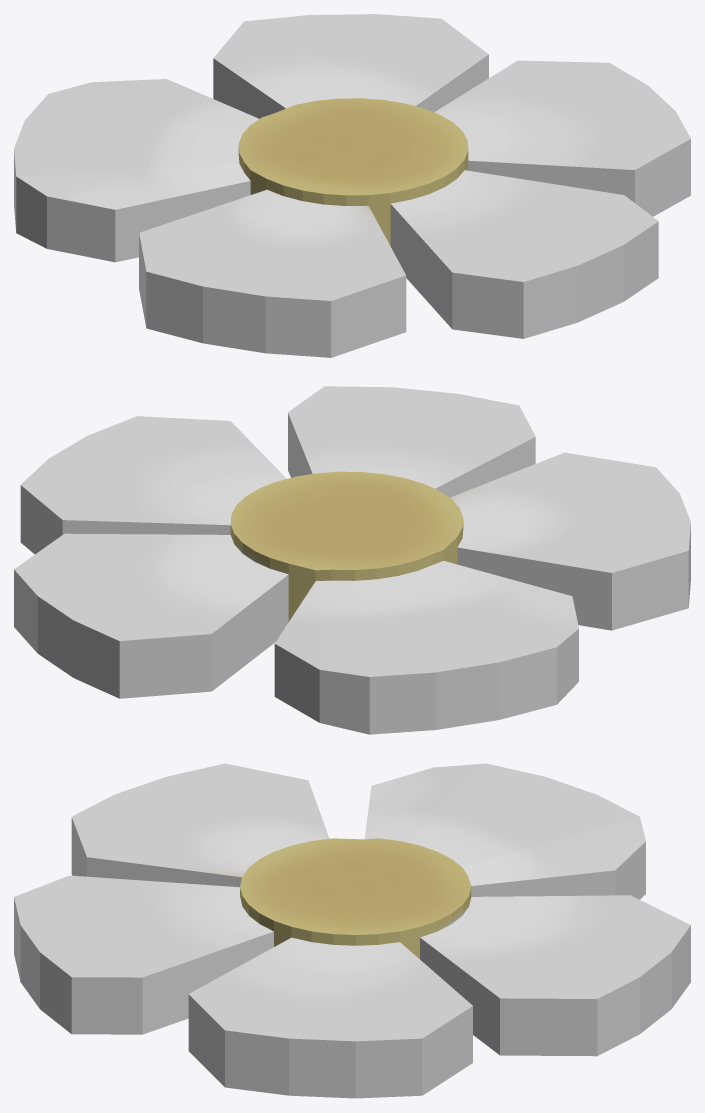
File: flower.fbx
3 views of the same model, one above another, from view 1: azimuth 30°, elevation 25°; view 2: azimuth 150°, elevation 25°; view 3: azimuth 270°, elevation 25° (orthographic).
Parts seen in each view (by area): view 1: Circle; view 2: Circle; view 3: Circle.
Part boxes in pixels (x1,y1,x2,y2): Circle: [14, 14, 690, 357]; Circle: [14, 386, 690, 734]; Circle: [14, 763, 690, 1098].
Size of the model in its own units: 34.78 by 3.96 by 35.81.
1 material, 1 textured.
